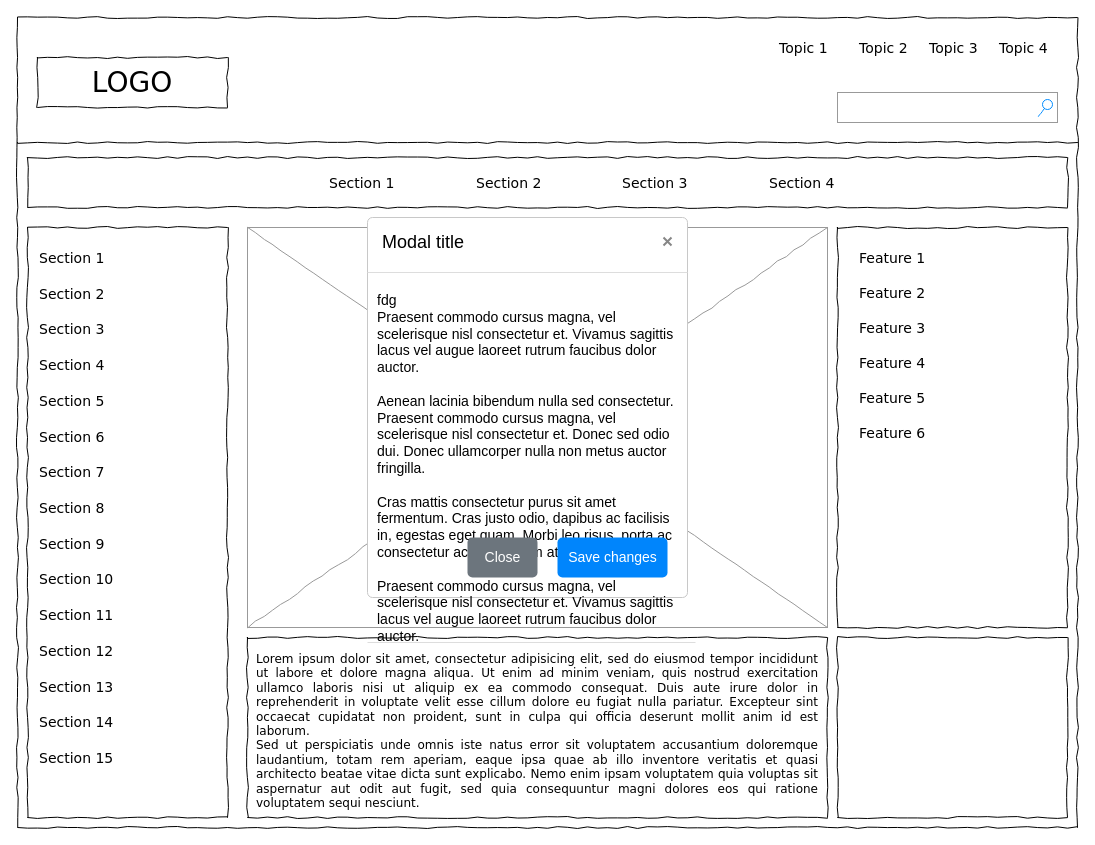
Image size: 1095x845. Some labels were removed from this diagram. The shapes that lost their labels are listed below. From the top down, each one's centre as x and y in pixels, then its label:
At [947,107]: "Search".
At [952,727]: "External Links".
